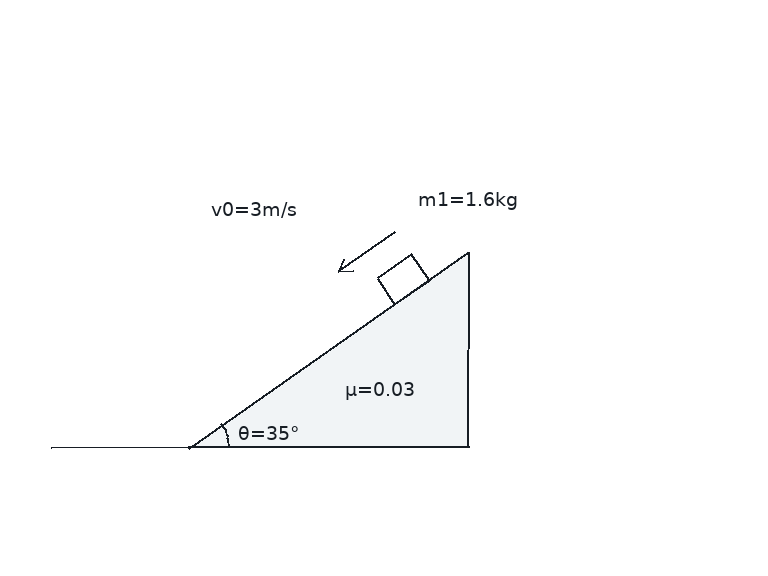block: (375, 252, 430, 305)
ramp: (187, 250, 470, 449)
